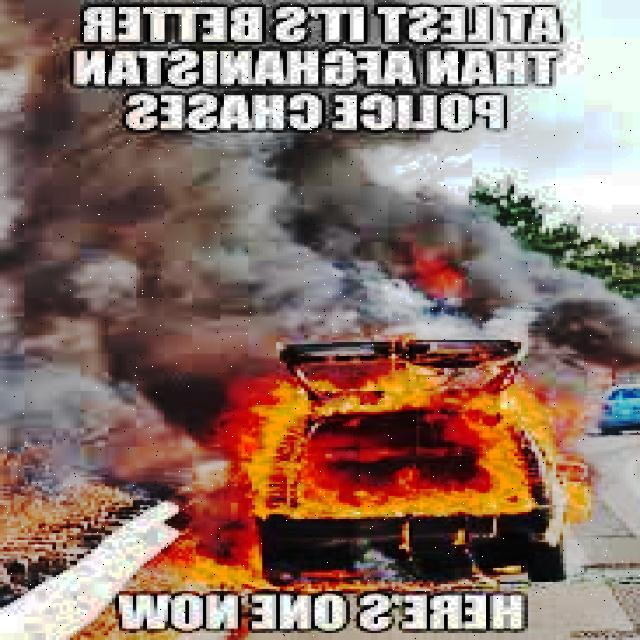api: (169, 348, 599, 597)
